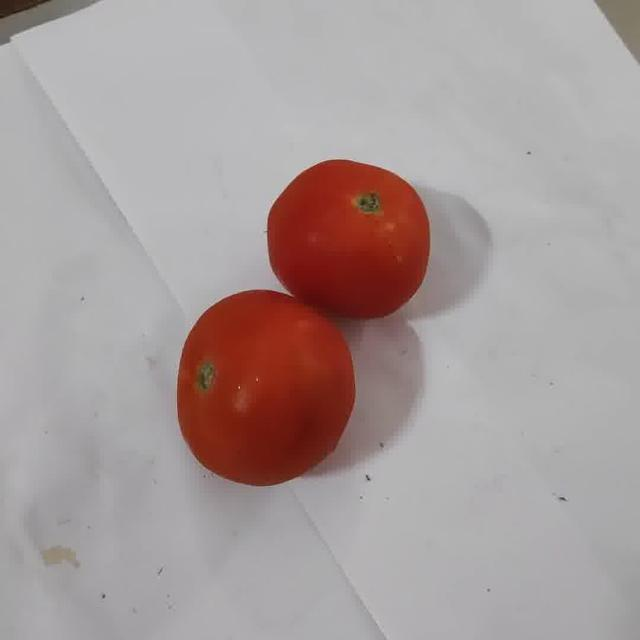Tomato: (177, 291, 354, 485), (267, 159, 430, 319)
